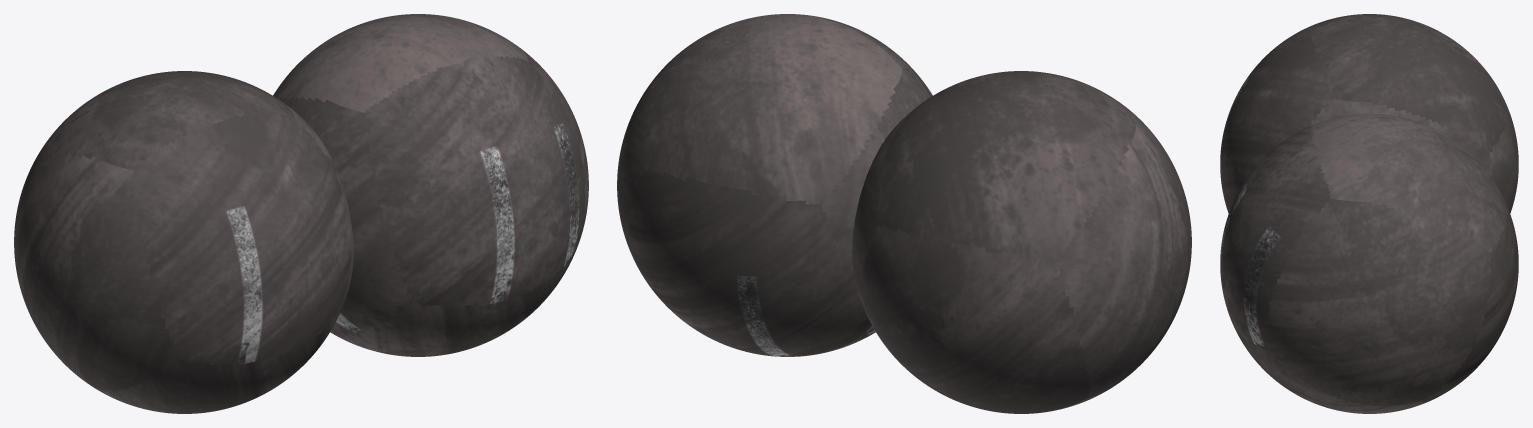
File: eyes.fbx
3 renders of one model, left to right at view 1: azimuth 30°, elevation 25°; view 2: azimuth 150°, elevation 25°; view 3: azimuth 270°, elevation 25°, orthographic. The views are drawn at different scales.
Parts seen in each view (by area): view 1: Eyes; view 2: Eyes; view 3: Eyes.
Part boxes in pixels (bbox=[...]): Eyes: bbox=[14, 14, 588, 413]; Eyes: bbox=[617, 14, 1191, 413]; Eyes: bbox=[1220, 14, 1518, 413].
Bounding box in the file's own units: 78.68 × 44.4 × 43.94.
